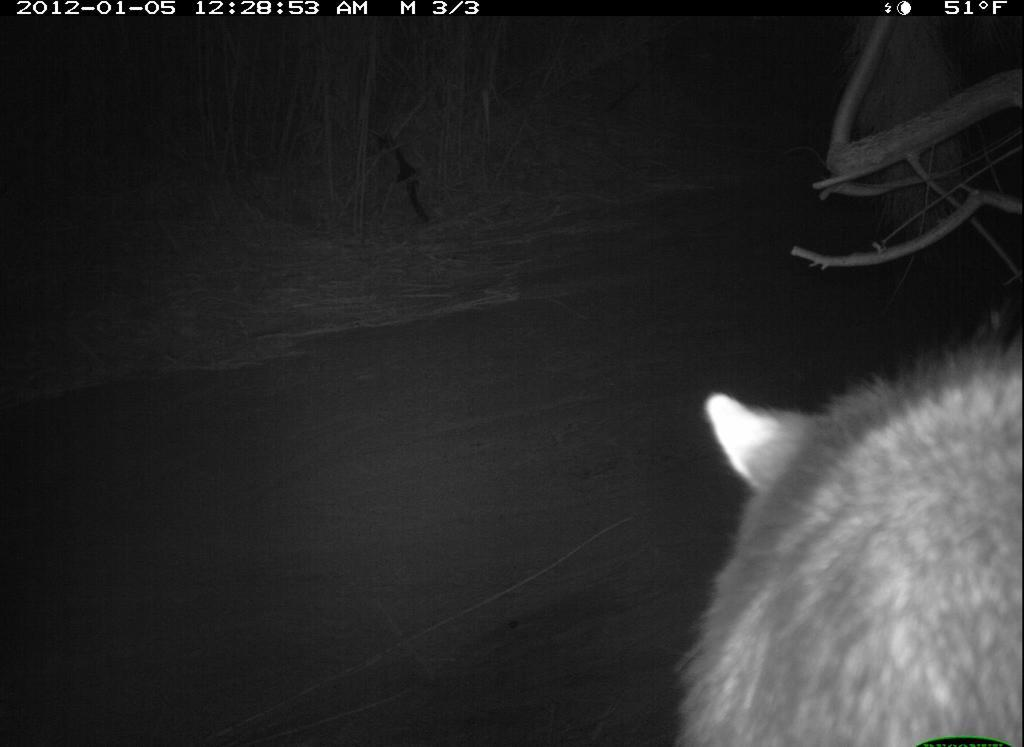raccoon: (674, 280, 1023, 739)
